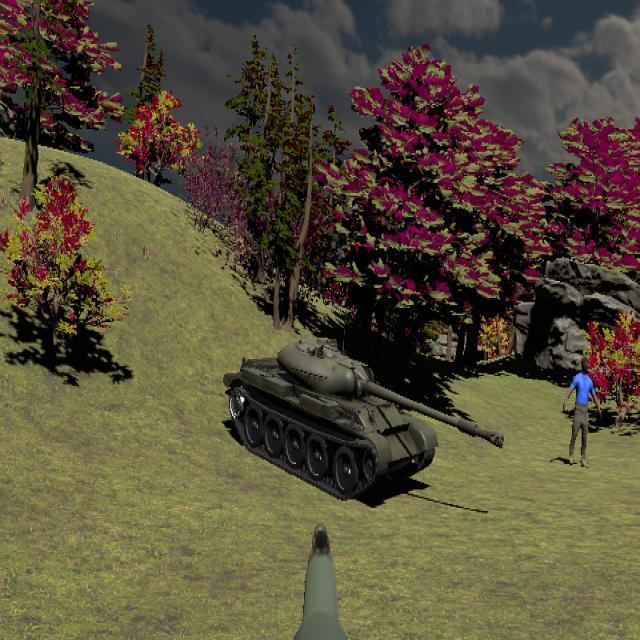Human: (562, 355, 603, 468)
Tank: (223, 336, 507, 503)
